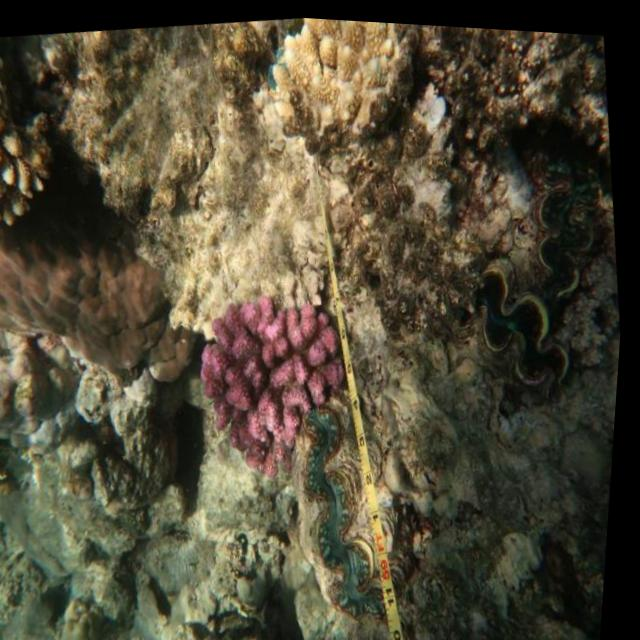Healthy Coral: (183, 268, 378, 492)
